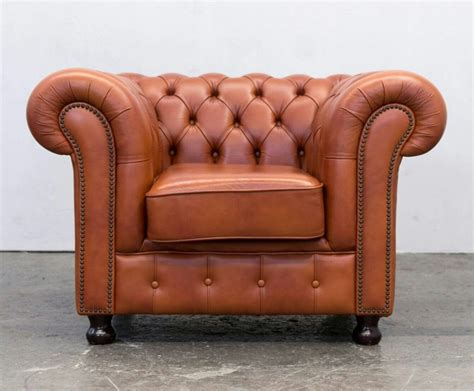cuero: (25, 68, 447, 316)
